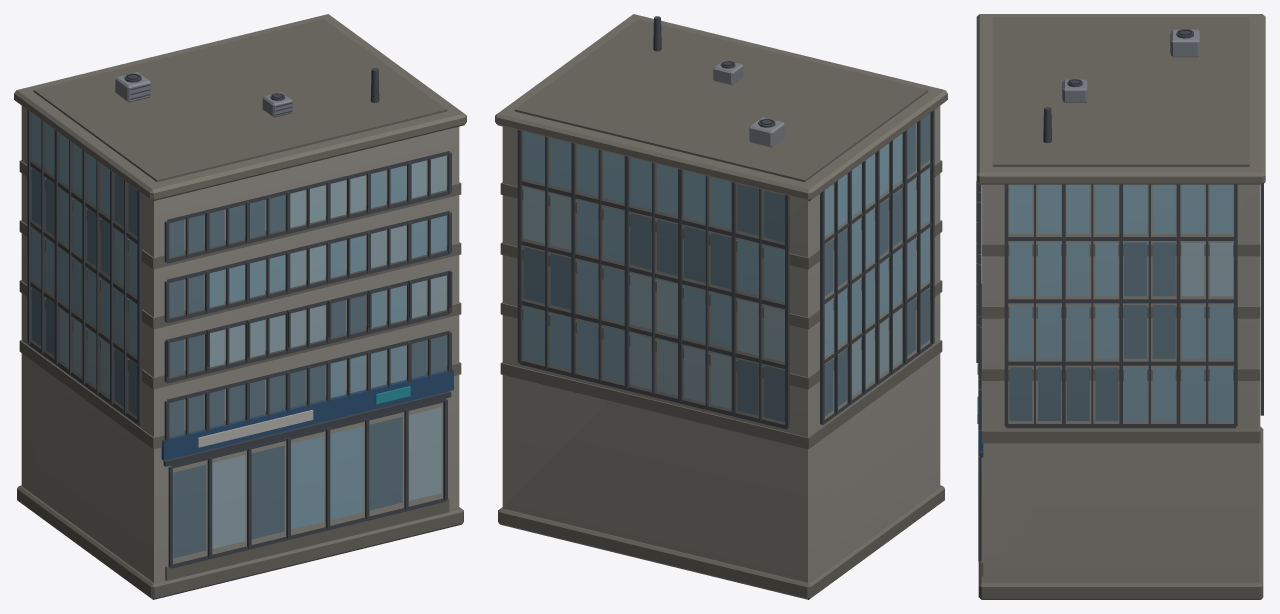
Rendered from podium.glb.
3 renders of one model, left to right at view 1: azimuth 30°, elevation 25°; view 2: azimuth 150°, elevation 25°; view 3: azimuth 270°, elevation 25°, orthographic. The views are drawn at different scales.
Visible parts, largest first — view 1: retail_podium_01; view 2: retail_podium_01; view 3: retail_podium_01.
Boxes of the visible parts, box(x1,y1,x2,y2) form: retail_podium_01: box(14, 14, 466, 599); retail_podium_01: box(495, 14, 947, 599); retail_podium_01: box(976, 14, 1265, 599).
Size of the model in its own units: 8.3 by 11.15 by 6.3.
